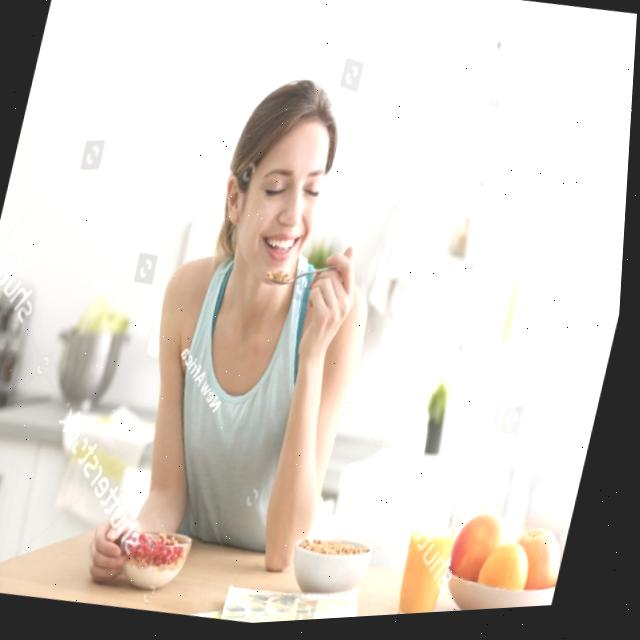eating-person: (85, 35, 637, 635)
